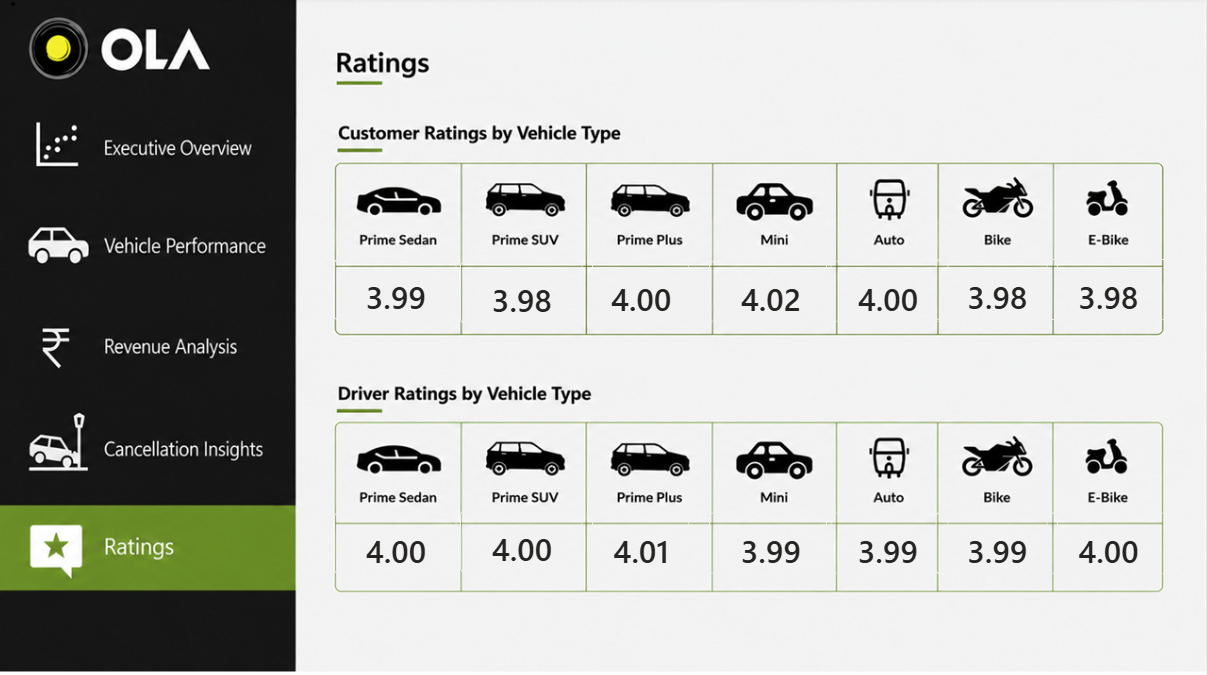

The dashboard page shown, as its layout file describes it:
{"tool":"powerbi","page":{"name":"Ratings","canvas":[1280,720],"ordinal":4},"visuals":[{"type":"actionButton","box":[0,536,313.4,92.3],"z":0},{"type":"actionButton","box":[0,426.3,313.4,93.8],"z":1000},{"type":"actionButton","box":[0,319.7,313.4,90.7],"z":2000},{"type":"actionButton","box":[0,221.1,313.4,84.3],"z":3000},{"type":"actionButton","box":[0,117.7,313.4,79.5],"z":4000},{"type":"cardVisual","title":"Total Bookings","fields":{"Data":["Avg(Bookings.Customer_Rating)"]},"box":[350.4,273.8,150.9,85.4],"z":6000},{"type":"cardVisual","title":"Total Bookings","fields":{"Data":["Avg(Bookings.Customer_Rating)"]},"box":[483.5,276.8,150.9,85.4],"z":7000},{"type":"cardVisual","title":"Total Bookings","fields":{"Data":["Avg(Bookings.Customer_Rating)"]},"box":[624,275.7,123.8,85.7],"z":8000},{"type":"cardVisual","title":"Total Bookings","fields":{"Data":["Avg(Bookings.Customer_Rating)"]},"box":[747.6,275.2,150.9,85.4],"z":9000},{"type":"cardVisual","title":"Total Bookings","fields":{"Data":["Avg(Bookings.Customer_Rating)"]},"box":[871.7,275.2,150.9,85.4],"z":10000},{"type":"cardVisual","title":"Total Bookings","fields":{"Data":["Avg(Bookings.Customer_Rating)"]},"box":[988.3,274.1,150.9,85.4],"z":11000},{"type":"cardVisual","title":"Total Bookings","fields":{"Data":["Avg(Bookings.Customer_Rating)"]},"box":[1105.5,273.6,150.9,85.4],"z":12000},{"type":"cardVisual","title":"Total Bookings","fields":{"Data":["Avg(Bookings.Driver_Ratings)"]},"box":[349.9,542.4,150.9,85.4],"z":13000},{"type":"cardVisual","title":"Total Bookings","fields":{"Data":["Avg(Bookings.Driver_Ratings)"]},"box":[483,541,150.9,85.4],"z":14000},{"type":"cardVisual","title":"Total Bookings","fields":{"Data":["Avg(Bookings.Driver_Ratings)"]},"box":[623.5,542.4,123.8,85.7],"z":15000},{"type":"cardVisual","title":"Total Bookings","fields":{"Data":["Avg(Bookings.Driver_Ratings)"]},"box":[747.6,542.4,150.9,85.4],"z":16000},{"type":"cardVisual","title":"Total Bookings","fields":{"Data":["Avg(Bookings.Driver_Ratings)"]},"box":[871.7,542.4,150.9,85.4],"z":17000},{"type":"cardVisual","title":"Total Bookings","fields":{"Data":["Avg(Bookings.Driver_Ratings)"]},"box":[987.8,542.4,150.9,85.4],"z":18000},{"type":"cardVisual","title":"Total Bookings","fields":{"Data":["Avg(Bookings.Driver_Ratings)"]},"box":[1105.5,542.4,150.9,85.4],"z":19000}]}

Visuals, with their boxes on the page's 1280x720 design canvas (x1, y1, x2, y2). These are canvas units, not pixel positions in the 1207x675 screenshot, which may show the page scaled, cropped or inside an application window:
actionButton: <box>0,536,313,628</box>
actionButton: <box>0,426,313,520</box>
actionButton: <box>0,320,313,410</box>
actionButton: <box>0,221,313,305</box>
actionButton: <box>0,118,313,197</box>
"Total Bookings" cardVisual: <box>350,274,501,359</box>
"Total Bookings" cardVisual: <box>484,277,634,362</box>
"Total Bookings" cardVisual: <box>624,276,748,361</box>
"Total Bookings" cardVisual: <box>748,275,898,361</box>
"Total Bookings" cardVisual: <box>872,275,1023,361</box>
"Total Bookings" cardVisual: <box>988,274,1139,360</box>
"Total Bookings" cardVisual: <box>1106,274,1256,359</box>
"Total Bookings" cardVisual: <box>350,542,501,628</box>
"Total Bookings" cardVisual: <box>483,541,634,626</box>
"Total Bookings" cardVisual: <box>624,542,747,628</box>
"Total Bookings" cardVisual: <box>748,542,898,628</box>
"Total Bookings" cardVisual: <box>872,542,1023,628</box>
"Total Bookings" cardVisual: <box>988,542,1139,628</box>
"Total Bookings" cardVisual: <box>1106,542,1256,628</box>
